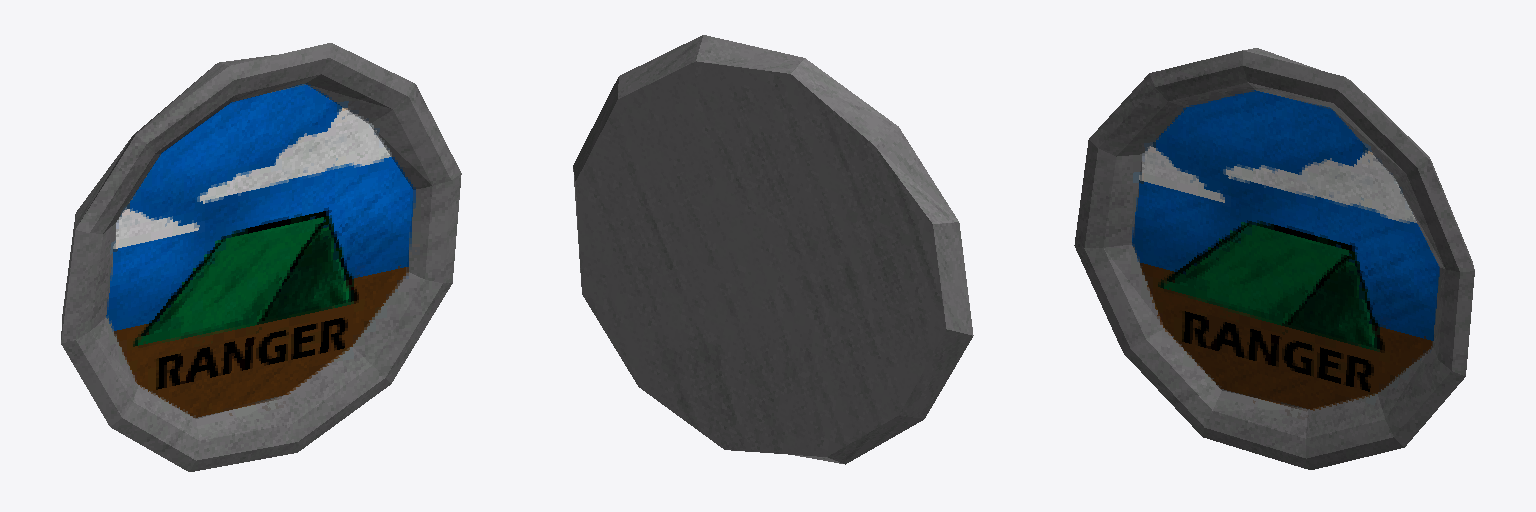
The picture shows the model from 3 angles: view 1: azimuth 30°, elevation 25°; view 2: azimuth 150°, elevation 25°; view 3: azimuth 330°, elevation 25°; orthographic projection.
Parts seen in each view (by area): view 1: ForestBadge; view 2: ForestBadge; view 3: ForestBadge.
Part boxes in pixels (x1,y1,x2,y2): ForestBadge: (61,43,461,471); ForestBadge: (573,35,973,464); ForestBadge: (1074,48,1474,469).
Size of the model in its own units: 0.3152 by 0.3034 by 0.0211.
Materials: 1 (1 with a texture image).